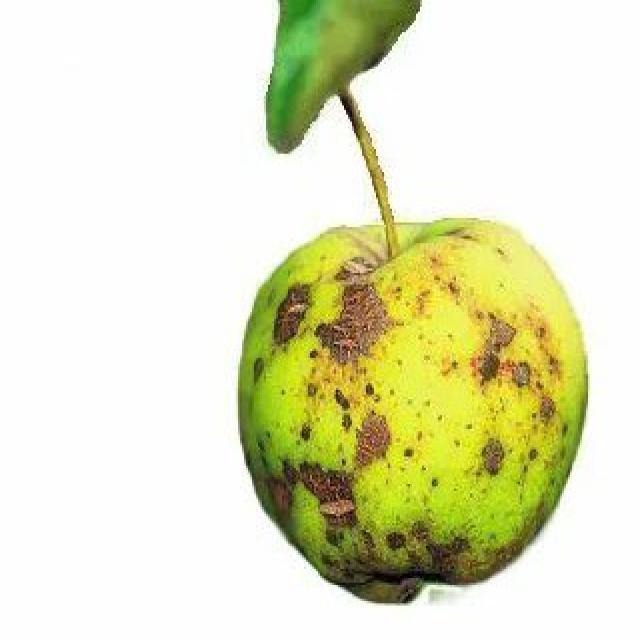Rotten: (235, 213, 570, 595)
